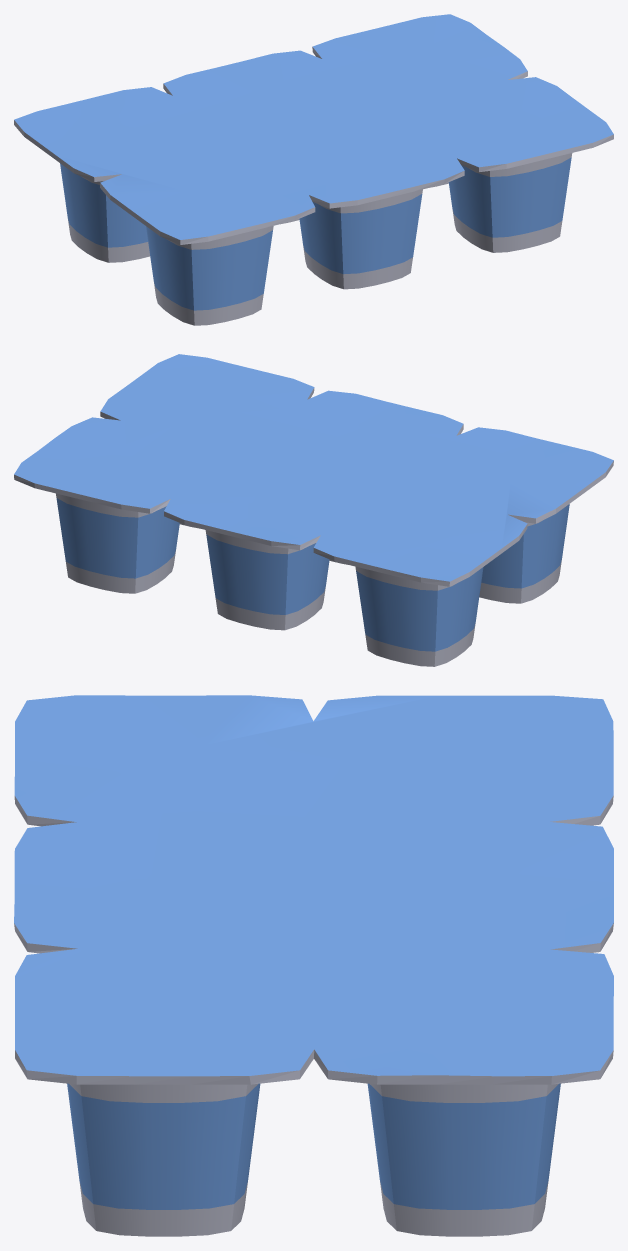
The model's file is yogurt.FBX.
The picture shows the model from 3 angles, top to bottom: view 1: azimuth 30°, elevation 25°; view 2: azimuth 150°, elevation 25°; view 3: azimuth 270°, elevation 25°; orthographic projection. The views are drawn at different scales.
Parts seen in each view (by area): view 1: yogurts; view 2: yogurts; view 3: yogurts.
Boxes of the visible parts, x1,y1,x2,y2 form: yogurts: (14, 14, 613, 325); yogurts: (14, 354, 613, 666); yogurts: (14, 695, 613, 1236).
Size of the model in its own units: 36.83 by 8.59 by 24.52.
